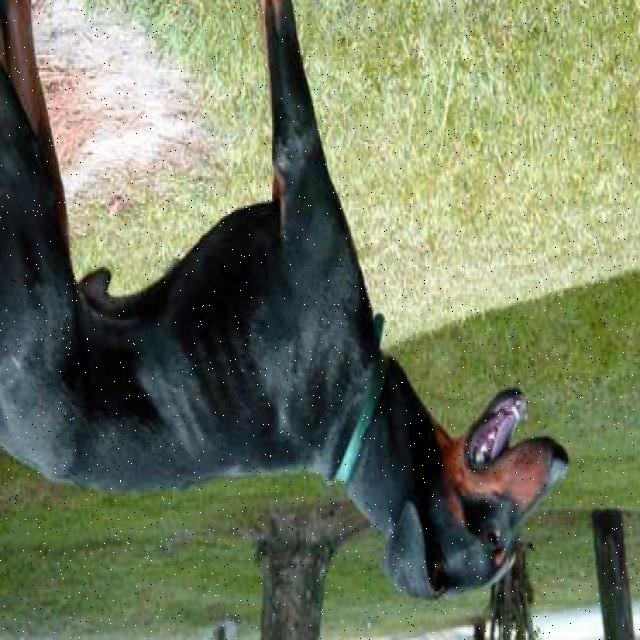Dog: (384, 385, 569, 605)
